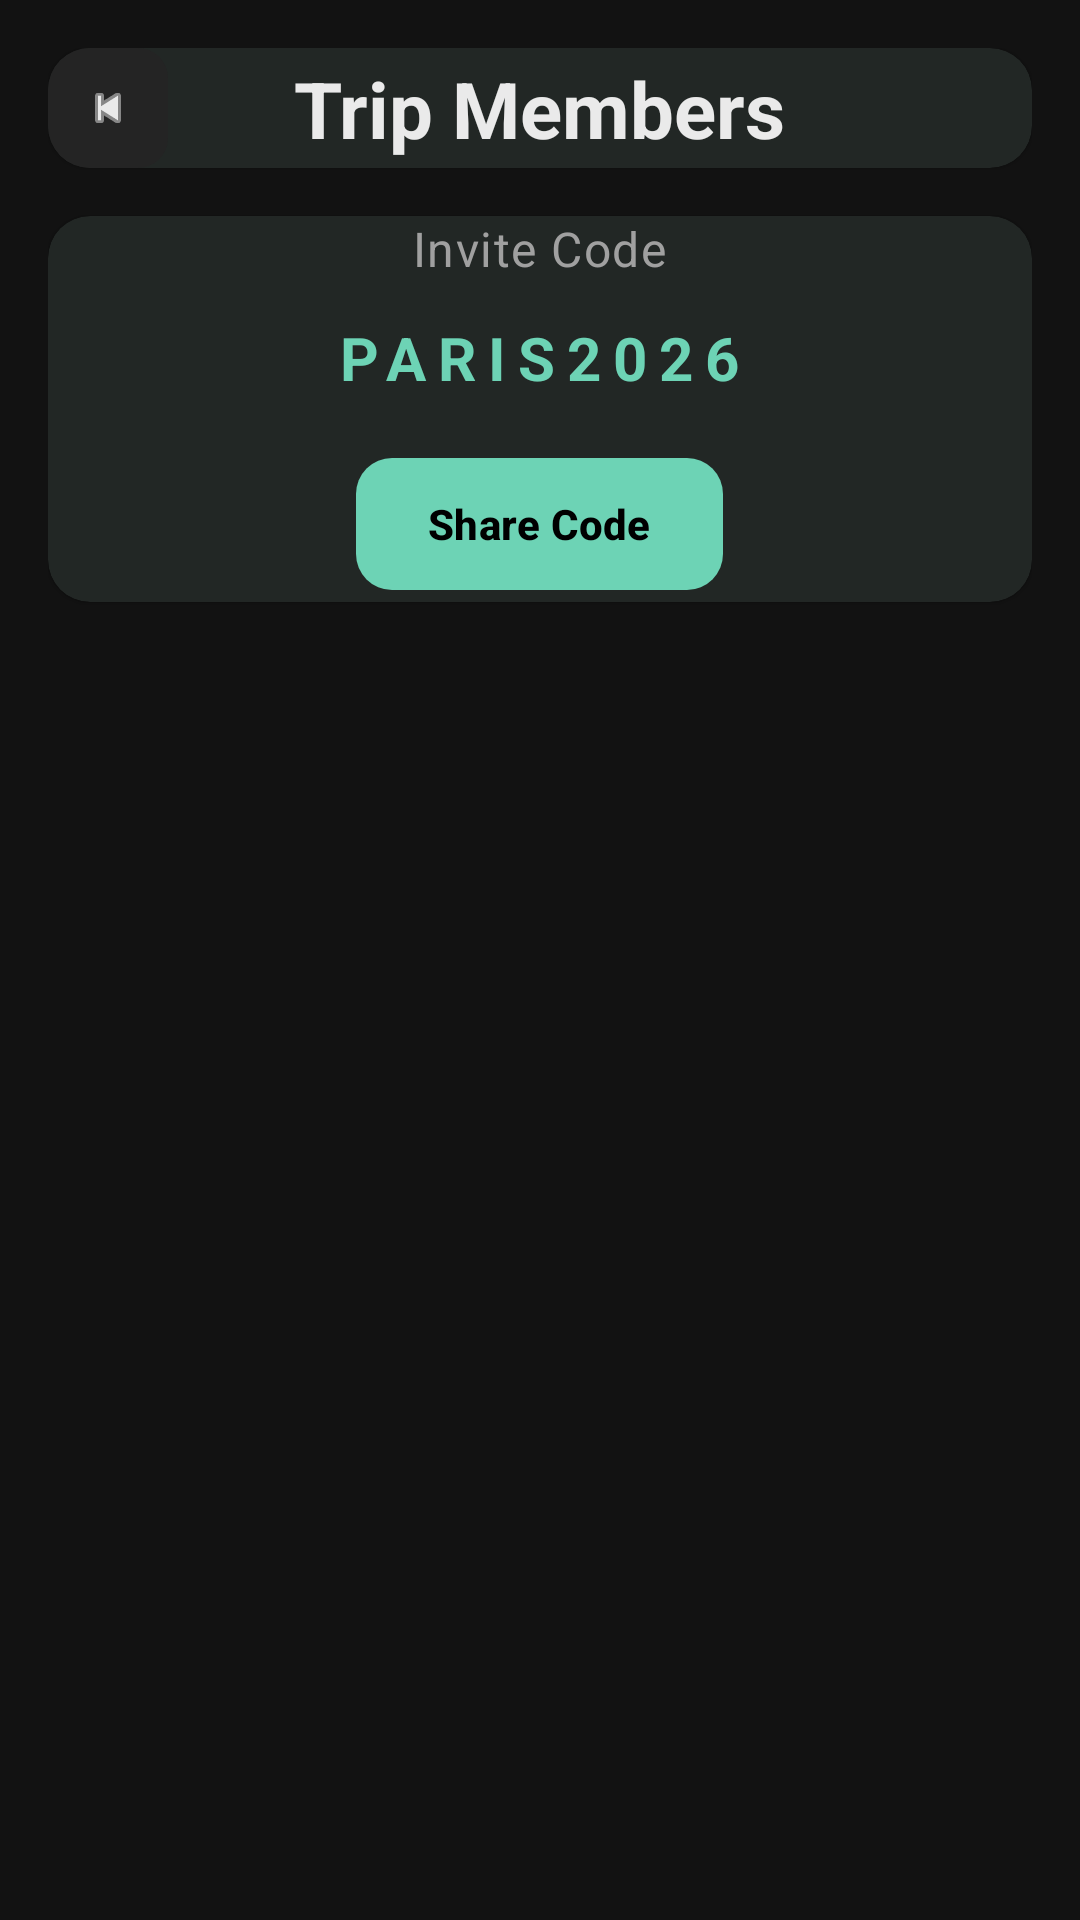

Where to tap for icons on this 1080*1920 app screen, as (x=x, y=y):
previous: (x=108, y=108)
